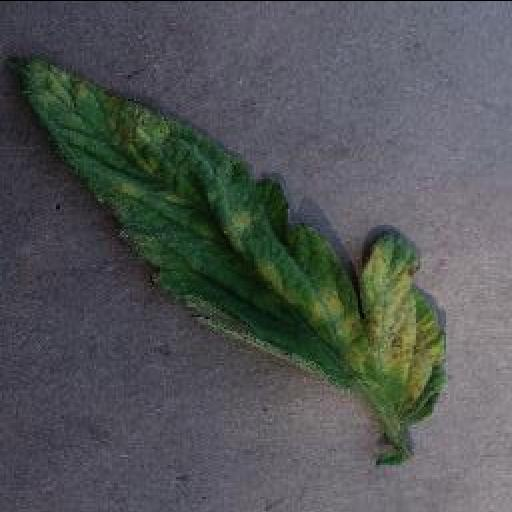disease_tomato: (16, 57, 448, 429)
